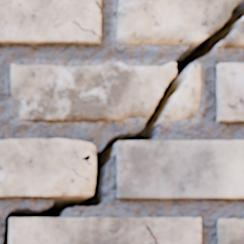brick: (117, 141, 243, 198), (0, 139, 94, 196), (10, 218, 200, 243), (0, 0, 100, 43), (217, 64, 243, 121), (218, 219, 243, 243)
broken_brick: (9, 61, 174, 122), (116, 0, 240, 45), (160, 64, 201, 122), (221, 20, 243, 47)
crack: (2, 0, 243, 243), (71, 20, 100, 40), (81, 0, 101, 14)
